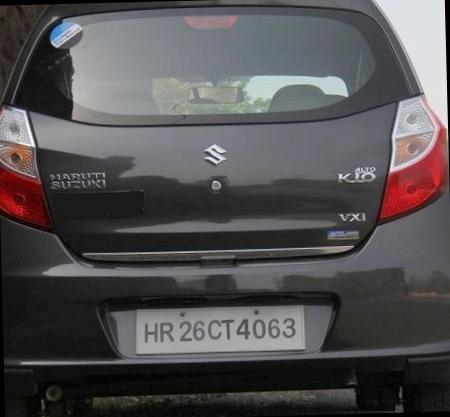plate: (129, 287, 312, 368)
